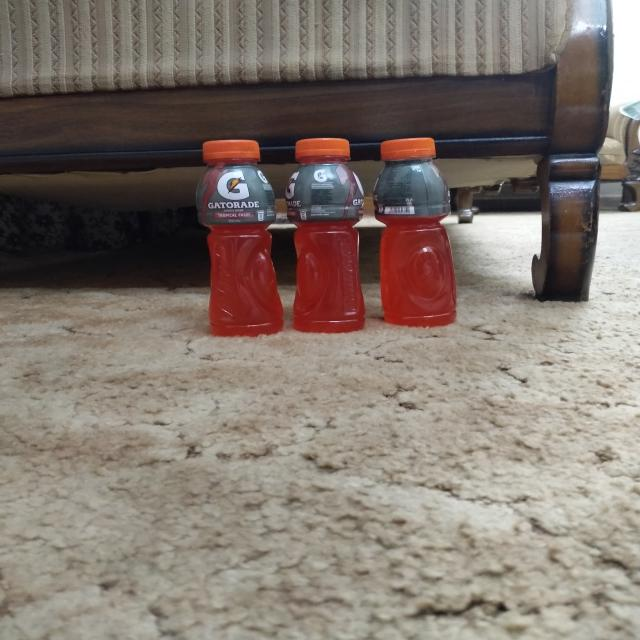Plastic: (188, 136, 287, 337), (376, 136, 460, 328), (290, 133, 369, 334)
